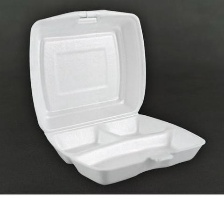foam_box: (21, 3, 210, 190)
